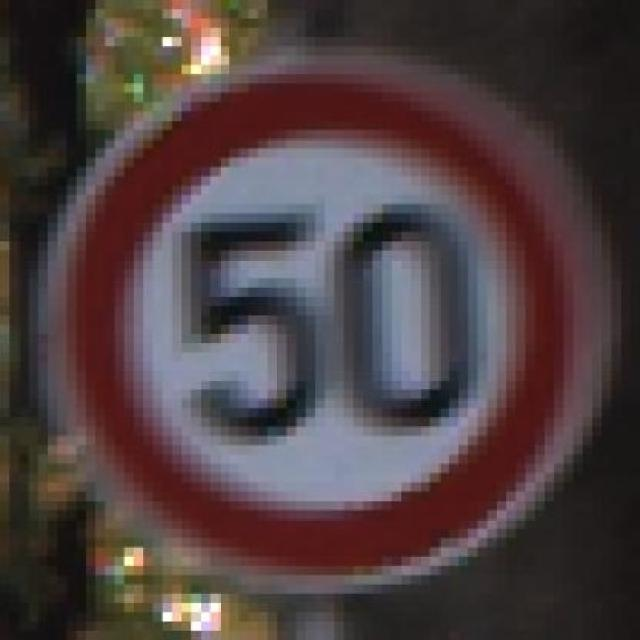forb_speed_over_50: (56, 60, 579, 575)
